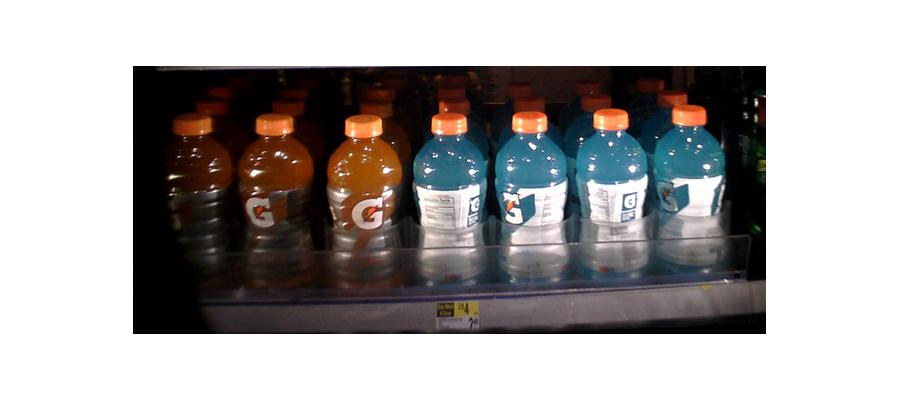bottle: (325, 112, 403, 296), (237, 109, 312, 299), (574, 109, 653, 288), (496, 108, 568, 291), (655, 102, 726, 284), (415, 113, 486, 291), (163, 113, 230, 295)
